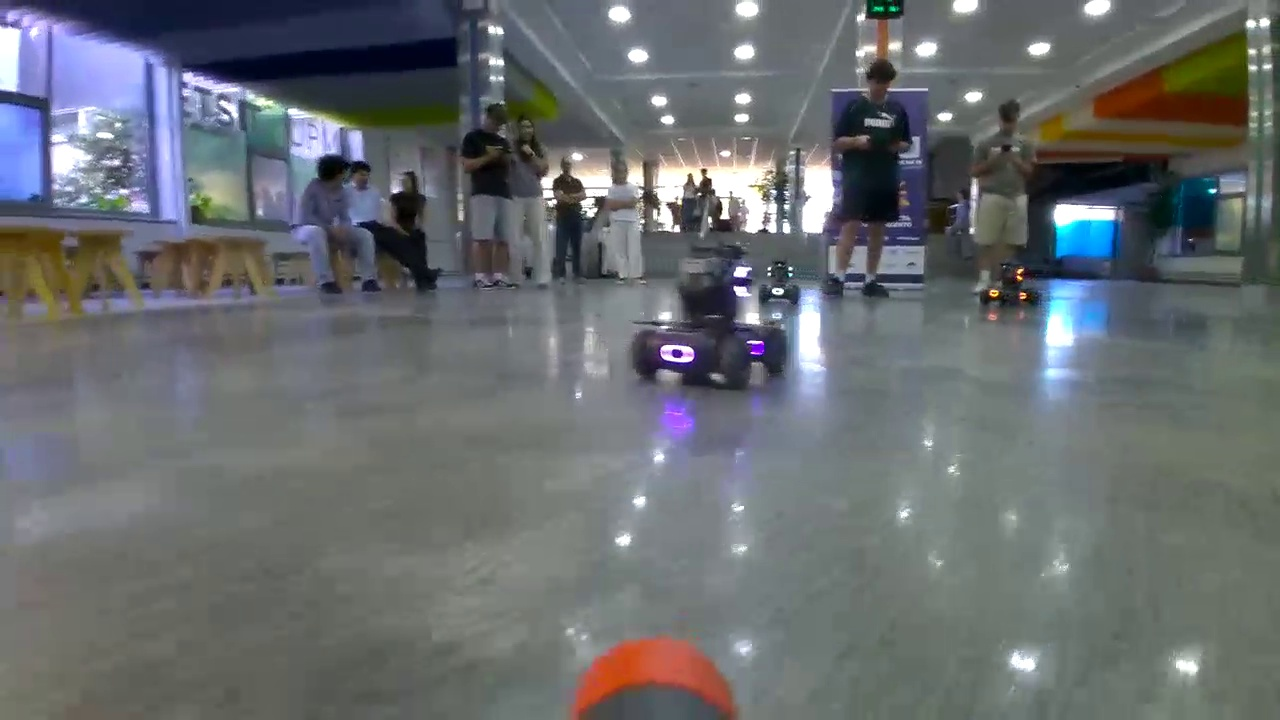robot: (635, 245, 786, 383), (982, 262, 1035, 306), (761, 265, 799, 302)
